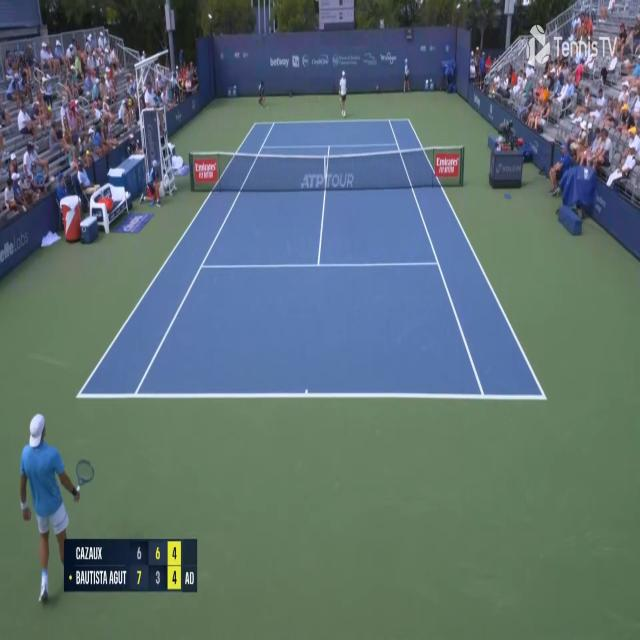tennis-player: (17, 408, 94, 608), (338, 68, 349, 117)
